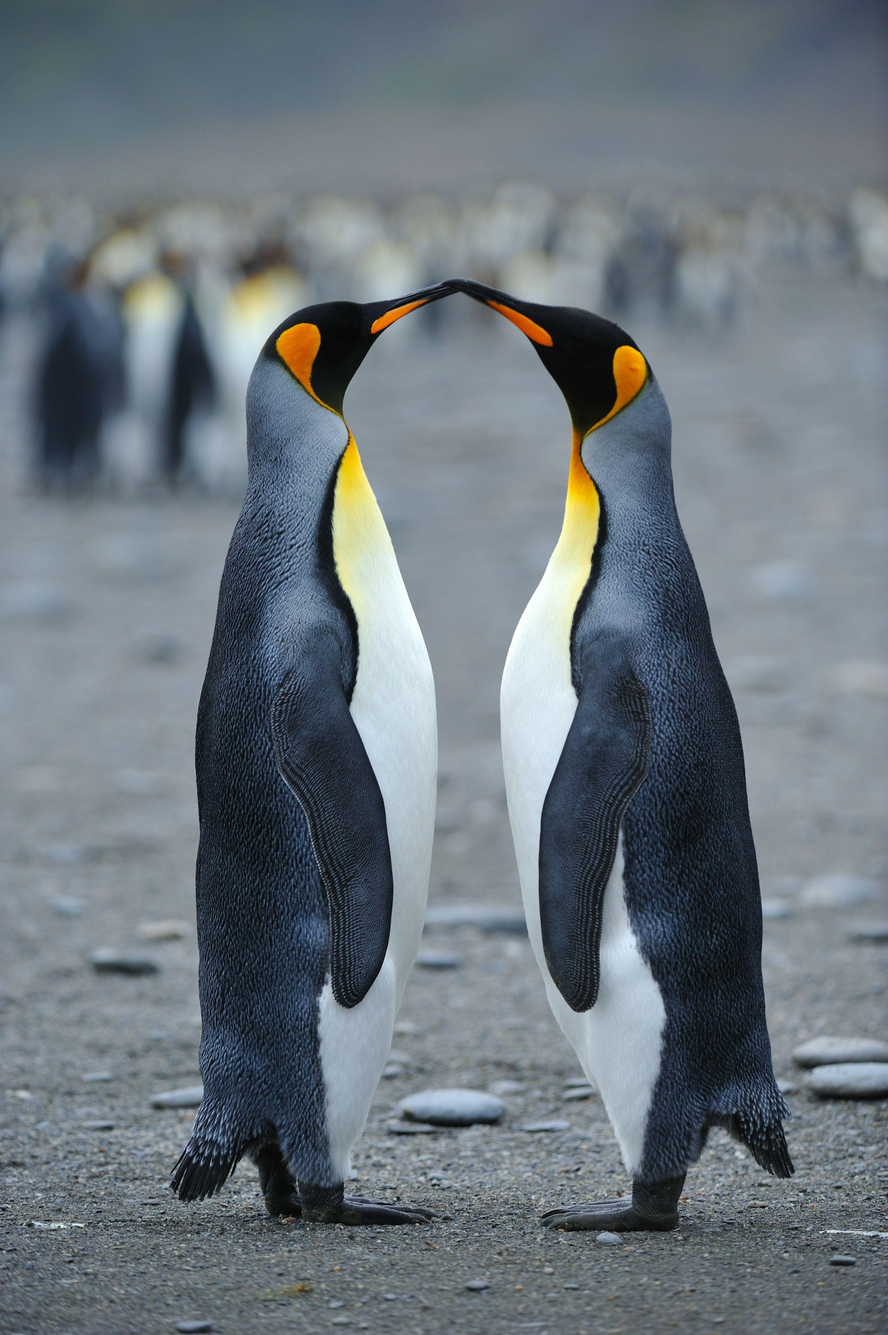Penguin: (459, 282, 792, 1231), (172, 282, 461, 1226)
